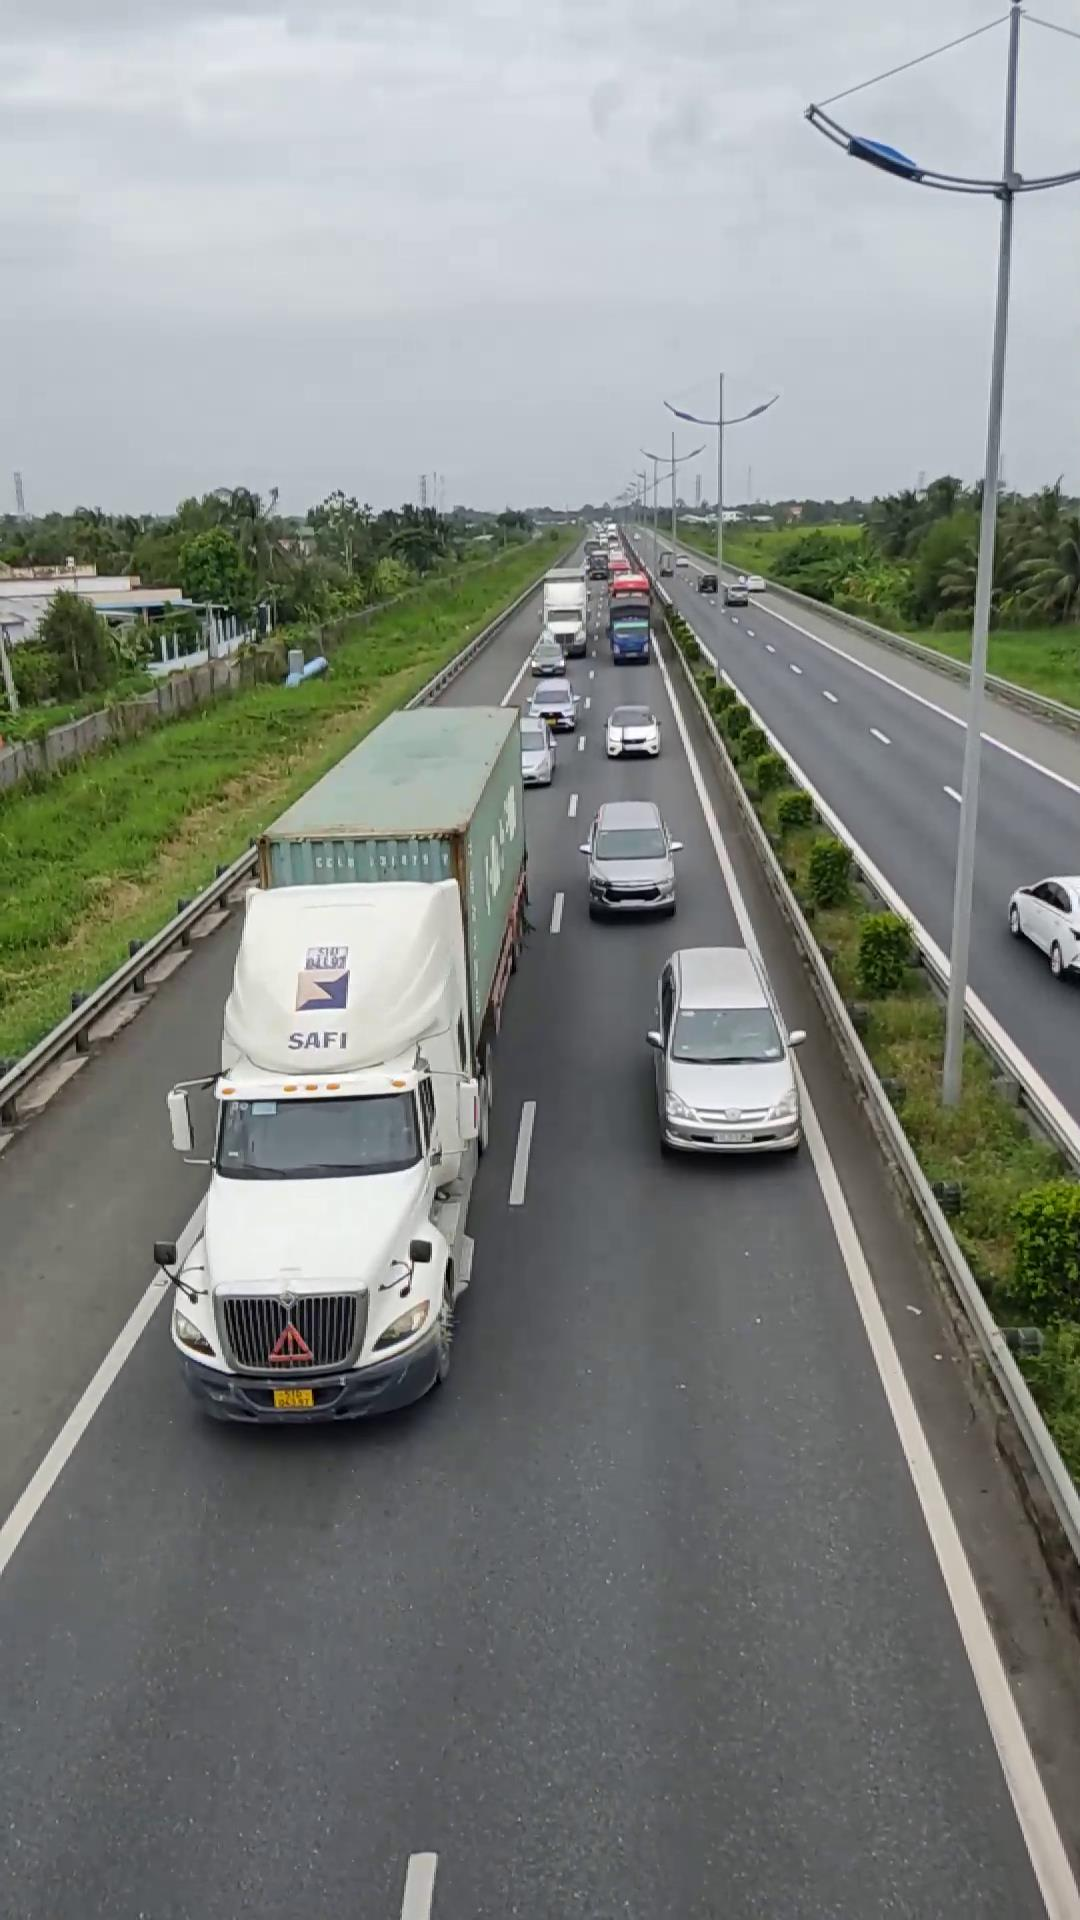car: (645, 945, 805, 1157), (581, 796, 680, 918), (1006, 873, 1079, 979)
container: (168, 697, 533, 1427)
